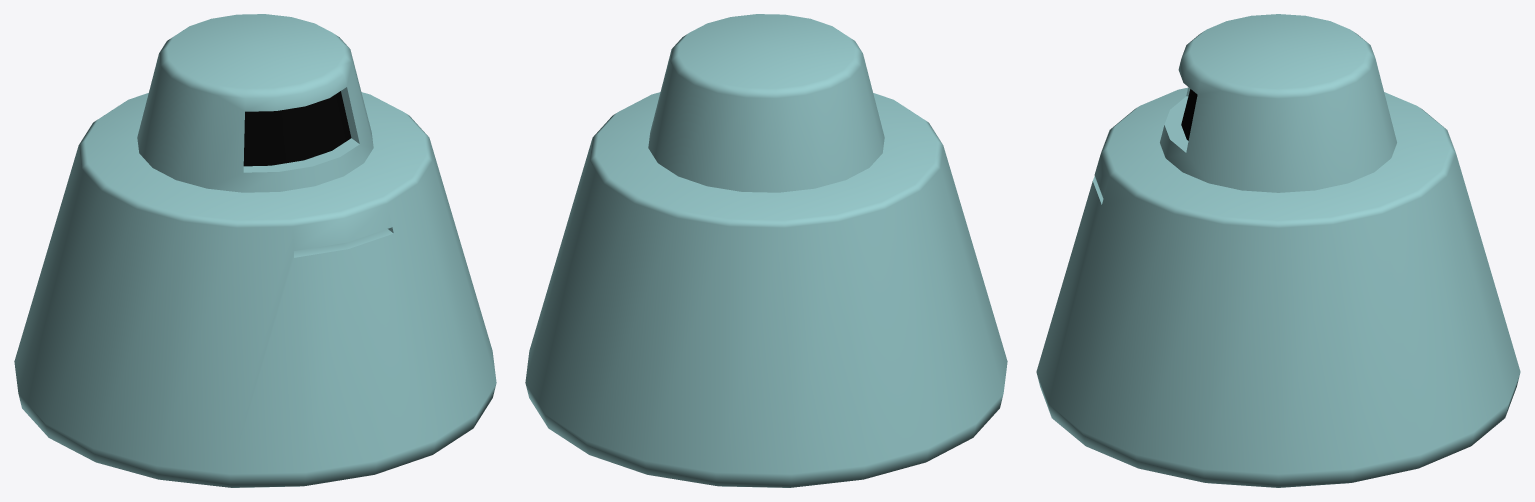
The model's file is Bank Robot 1.fbx.
The picture shows the model from 3 angles, left to right: view 1: azimuth 30°, elevation 25°; view 2: azimuth 150°, elevation 25°; view 3: azimuth 270°, elevation 25°; orthographic projection.
Visible parts, largest first — view 1: polySurface18; view 2: polySurface18; view 3: polySurface18.
Part boxes in pixels (left/top/right/bottom): polySurface18: left=14, top=14, right=496, bottom=487; polySurface18: left=525, top=14, right=1007, bottom=487; polySurface18: left=1036, top=14, right=1520, bottom=487.
Bounding box in the file's own units: 0.8077 × 0.6399 × 0.8077.
